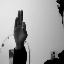f: (12, 9, 29, 42)
